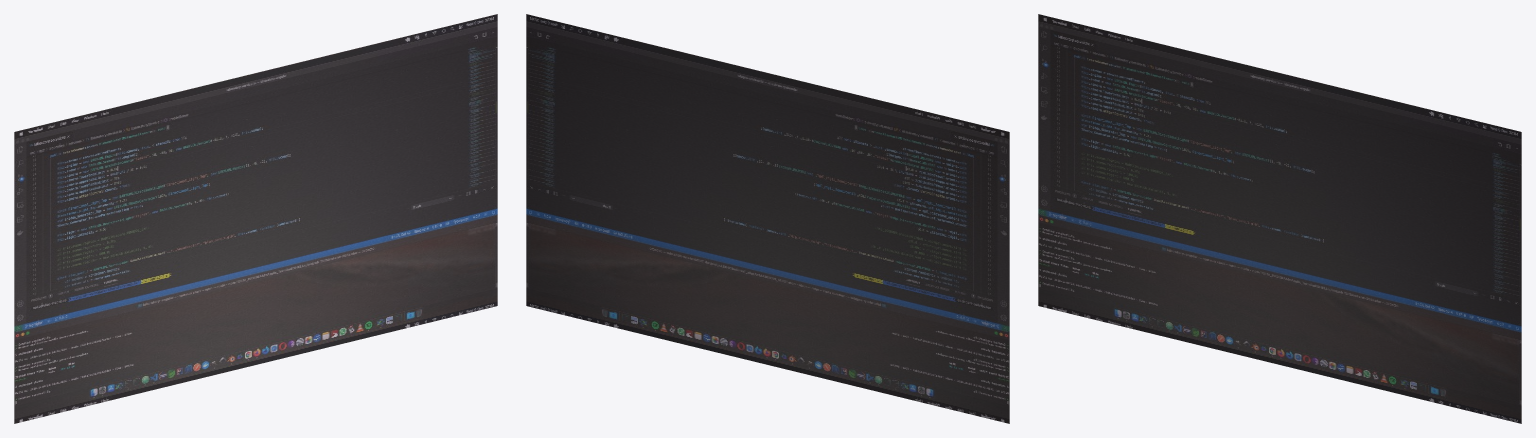
The model's file is screen_center.glb.
3 views of the same model, side by side, from view 1: azimuth 30°, elevation 25°; view 2: azimuth 150°, elevation 25°; view 3: azimuth 330°, elevation 25° (orthographic).
Visible parts, largest first — view 1: screen_center; view 2: screen_center; view 3: screen_center.
Part boxes in pixels (left/top/right/bottom): screen_center: left=14, top=14, right=497, bottom=423; screen_center: left=526, top=14, right=1009, bottom=423; screen_center: left=1038, top=14, right=1521, bottom=423.
Size of the model in its own units: 4.99 by 2.88 by 1.43e-06.
Materials: 1 (1 with a texture image).
